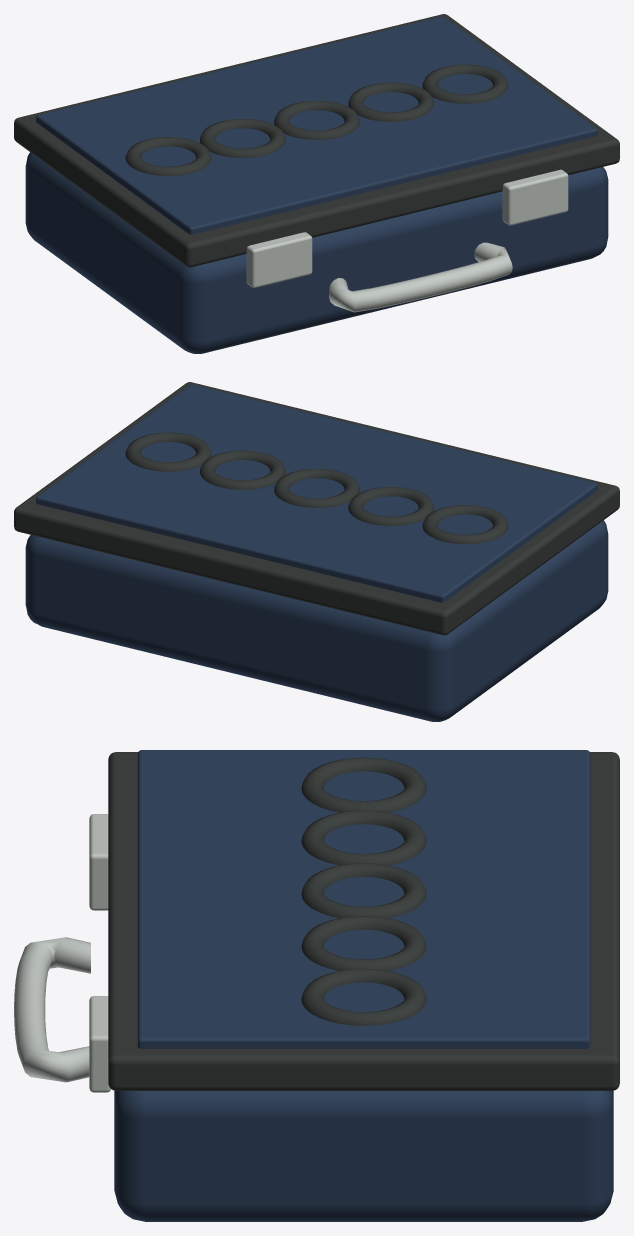
File: eyepiece_case.glb
3 renders of one model, top to bottom at view 1: azimuth 30°, elevation 25°; view 2: azimuth 150°, elevation 25°; view 3: azimuth 270°, elevation 25°, orthographic. The views are drawn at different scales.
Visible parts, largest first — view 1: eyepiece-case_2, eyepiece-case_1, eyepiece-case_0; view 2: eyepiece-case_2, eyepiece-case_1; view 3: eyepiece-case_2, eyepiece-case_1, eyepiece-case_0.
Boxes of the visible parts, x1,y1,x2,y2 form: eyepiece-case_2: (25, 16, 608, 353); eyepiece-case_1: (14, 14, 619, 267); eyepiece-case_0: (246, 169, 568, 312); eyepiece-case_2: (25, 384, 608, 721); eyepiece-case_1: (14, 382, 619, 635); eyepiece-case_2: (114, 750, 613, 1221); eyepiece-case_1: (108, 752, 619, 1090); eyepiece-case_0: (14, 814, 110, 1092).
Bounding box in the file's own units: 0.468 × 0.138 × 0.3884.
